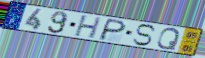4: (24, 8, 44, 32)
9: (46, 10, 70, 35)
H: (73, 14, 104, 40)
P: (96, 18, 128, 42)
Q: (155, 27, 181, 51)
S: (131, 23, 157, 47)
